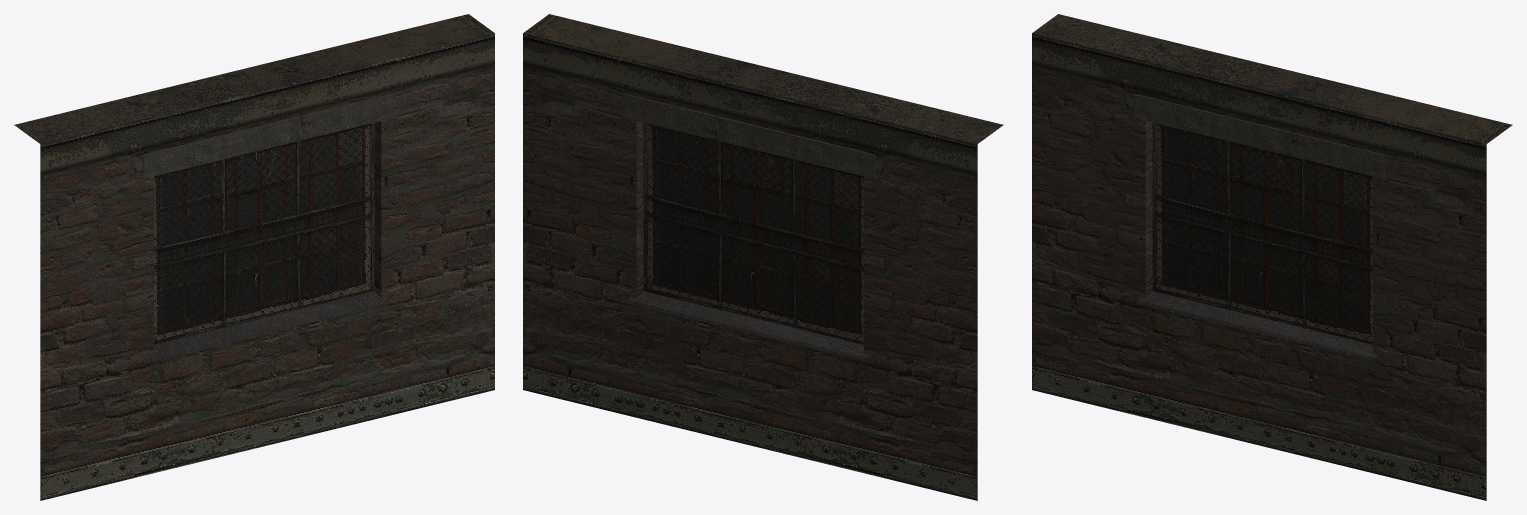
The model's file is window_hr_1.glb.
The picture shows the model from 3 angles, left to right: view 1: azimuth 30°, elevation 25°; view 2: azimuth 150°, elevation 25°; view 3: azimuth 330°, elevation 25°; orthographic projection.
Parts seen in each view (by area): view 1: window_hr_1; view 2: window_hr_1; view 3: window_hr_1.
Boxes of the visible parts, x1=… form: window_hr_1: x1=14, y1=14, x2=494, y2=500; window_hr_1: x1=523, y1=14, x2=1003, y2=500; window_hr_1: x1=1032, y1=14, x2=1512, y2=500.
Bounding box in the file's own units: 4 × 3 × 0.51.
5 materials, 5 textured.
